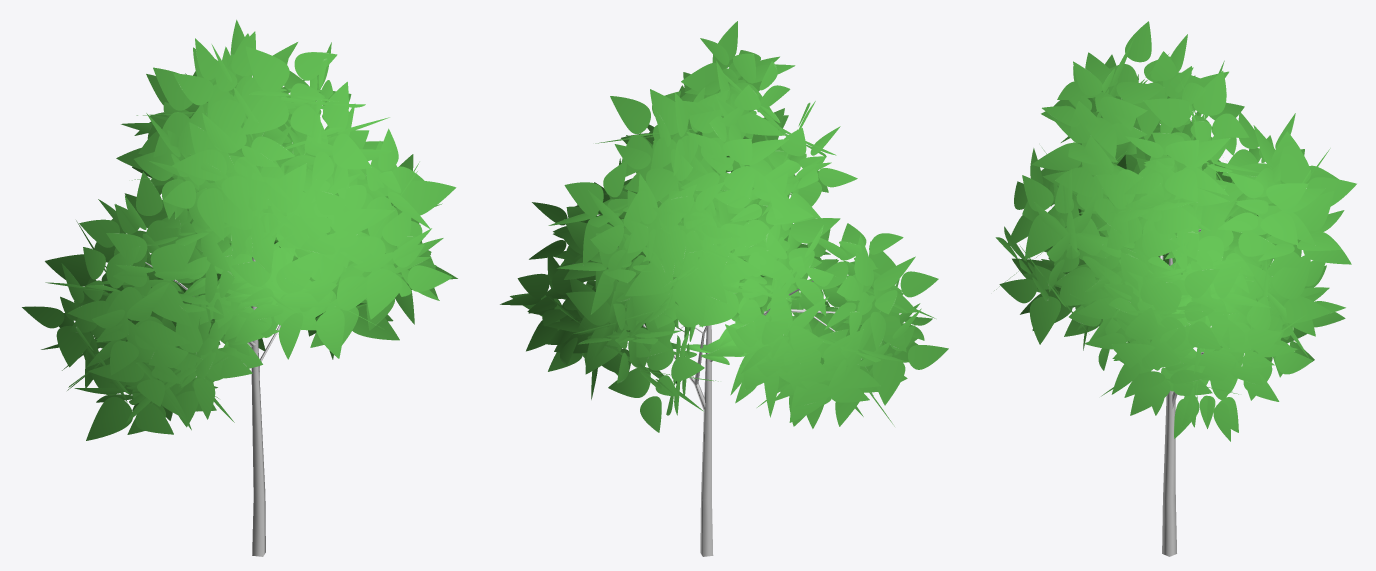
Rendered from ArbolLod2.fbx.
3 views of the same model, side by side, from view 1: azimuth 30°, elevation 25°; view 2: azimuth 150°, elevation 25°; view 3: azimuth 270°, elevation 25° (orthographic). The views are drawn at different scales.
Visible parts, largest first — view 1: Hoja.001, tree.004; view 2: Hoja.001, tree.004; view 3: Hoja.001, tree.004.
Part boxes in pixels (x1,y1,x2,y2): Hoja.001: [22, 19, 457, 440]; tree.004: [145, 257, 280, 556]; Hoja.001: [500, 21, 948, 432]; tree.004: [643, 281, 835, 556]; Hoja.001: [994, 21, 1356, 441]; tree.004: [1159, 229, 1203, 556].
Bounding box in the file's own units: 612 × 750 × 502.
